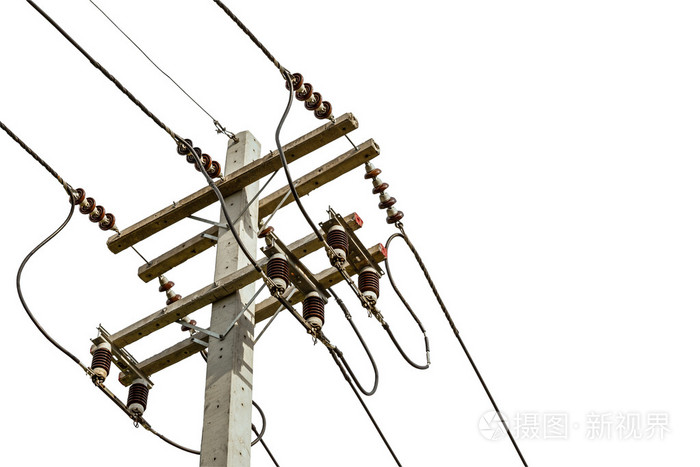insulator: (363, 167, 409, 223), (66, 189, 118, 231), (285, 74, 332, 120), (157, 282, 198, 332), (172, 139, 223, 178)
